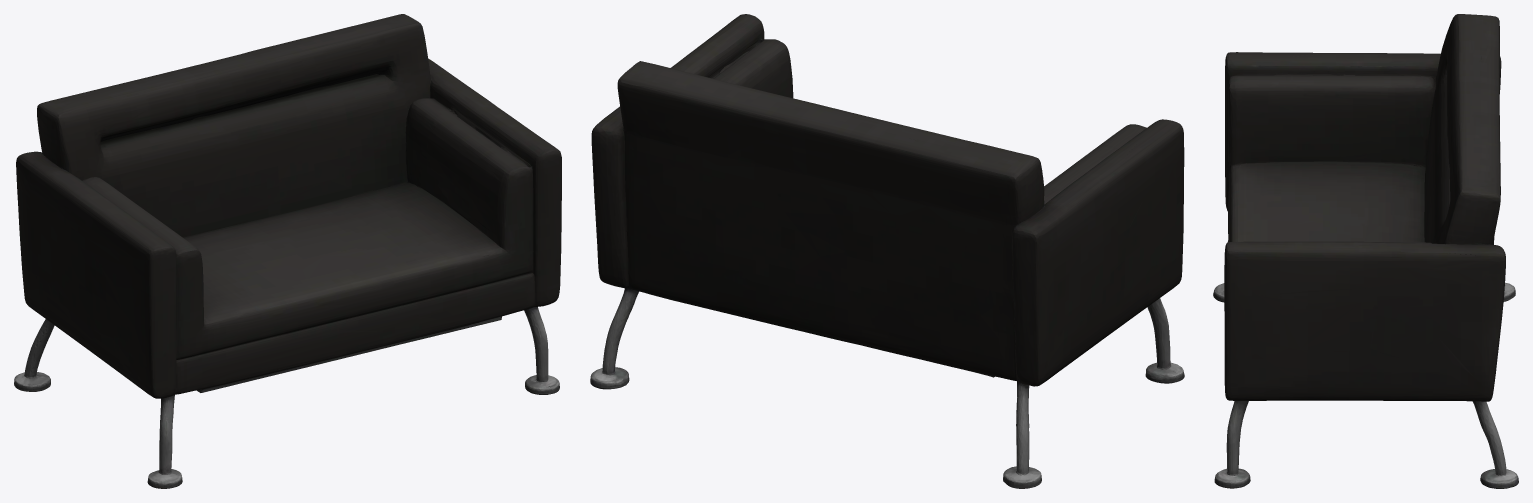
Rendered from sofa.glb.
3 renders of one model, left to right at view 1: azimuth 30°, elevation 25°; view 2: azimuth 150°, elevation 25°; view 3: azimuth 270°, elevation 25°, orthographic. The views are drawn at different scales.
Parts seen in each view (by area): view 1: geometry_0; view 2: geometry_0; view 3: geometry_0.
Part boxes in pixels (left/top/right/bottom): geometry_0: left=14, top=14, right=561, bottom=488; geometry_0: left=590, top=14, right=1184, bottom=488; geometry_0: left=1213, top=14, right=1518, bottom=488.
Bounding box in the file's own units: 0.9961 × 0.6518 × 0.6292.
Materials: 1 (1 with a texture image).
